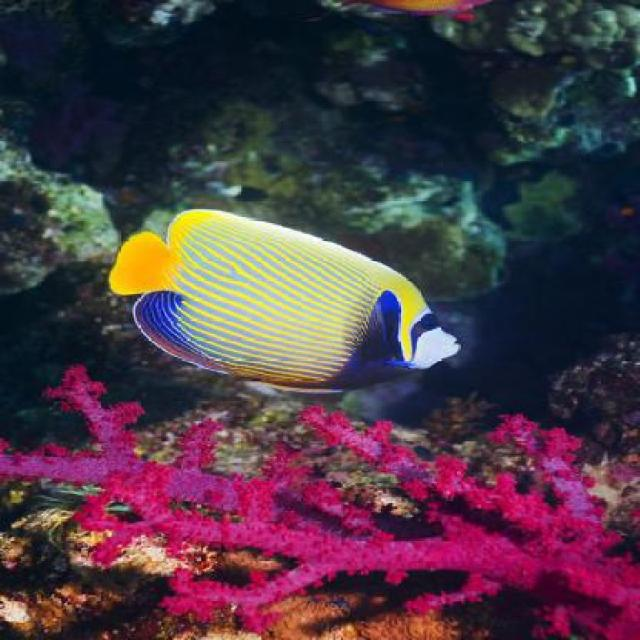AngelFish: (110, 204, 466, 392)
